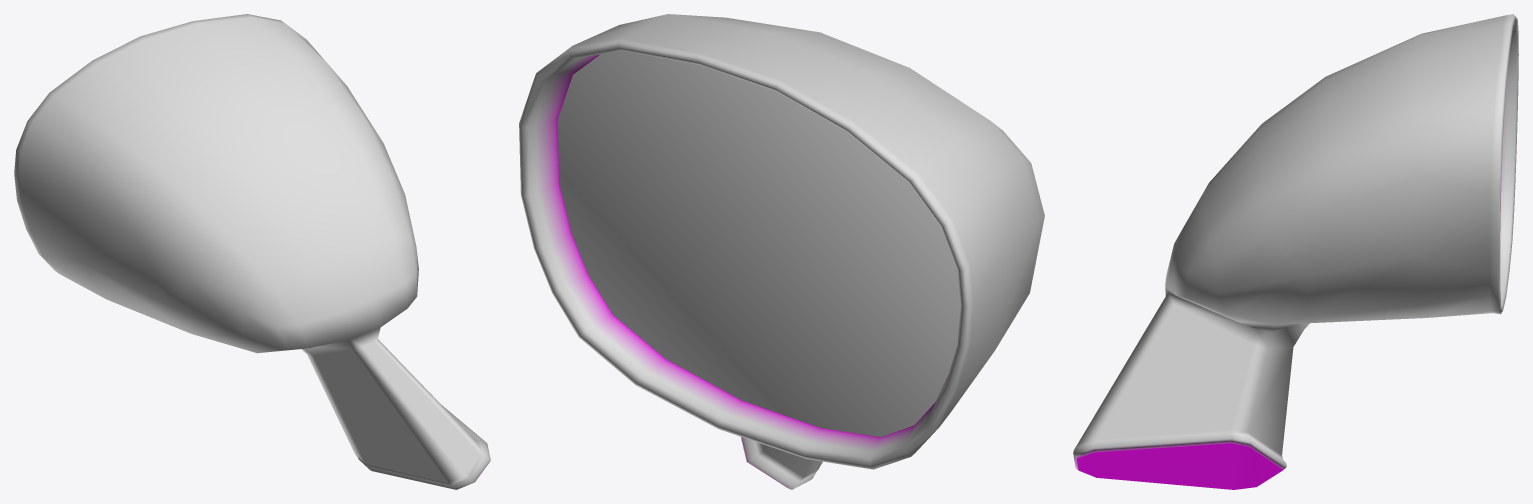
Rendered from Car_Mini_CountrymanJCW_2017_MirrorR_SetXS.fbx.
3 renders of one model, left to right at view 1: azimuth 30°, elevation 25°; view 2: azimuth 150°, elevation 25°; view 3: azimuth 270°, elevation 25°, orthographic. The views are drawn at different scales.
Parts seen in each view (by area): view 1: MirrorR 6; view 2: MirrorR 6; view 3: MirrorR 6.
Part boxes in pixels (left/top/right/bottom): MirrorR 6: left=14, top=14, right=490, bottom=489; MirrorR 6: left=519, top=14, right=1044, bottom=489; MirrorR 6: left=1073, top=14, right=1518, bottom=489.
Size of the model in its own units: 0.156 by 0.1883 by 0.1849.
